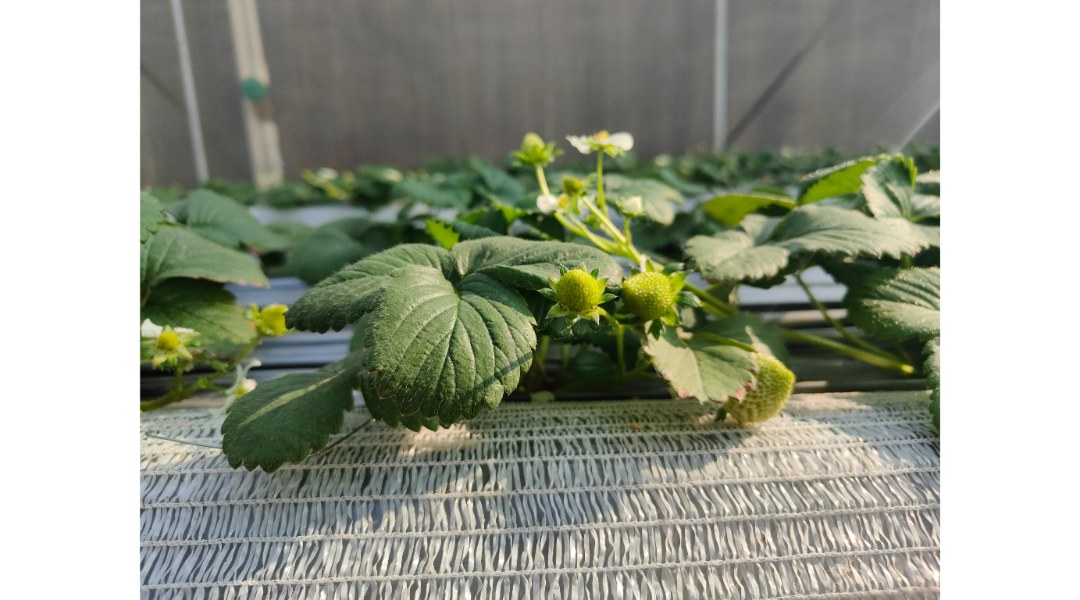berry: (539, 261, 612, 328), (622, 266, 688, 332), (502, 121, 553, 173)
flower: (563, 127, 643, 163), (611, 193, 650, 226), (531, 190, 570, 215)
